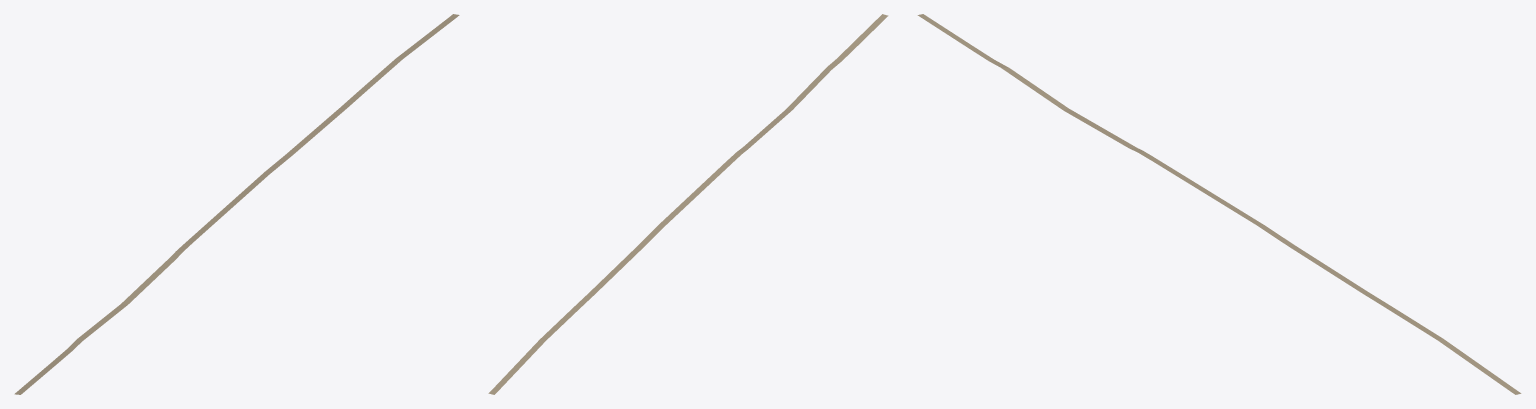
The model's file is farm_-30_-22_track.glb.
3 renders of one model, left to right at view 1: azimuth 30°, elevation 25°; view 2: azimuth 210°, elevation 25°; view 3: azimuth 270°, elevation 25°, orthographic. The views are drawn at different scales.
Visible parts, largest first — view 1: geometry_0; view 2: geometry_0; view 3: geometry_0.
Boxes of the visible parts, x1,y1,x2,y2 form: geometry_0: (14,14,459,394); geometry_0: (488,14,888,394); geometry_0: (917,14,1521,394).
Size of the model in its own units: 377 by 10.55 by 267.
